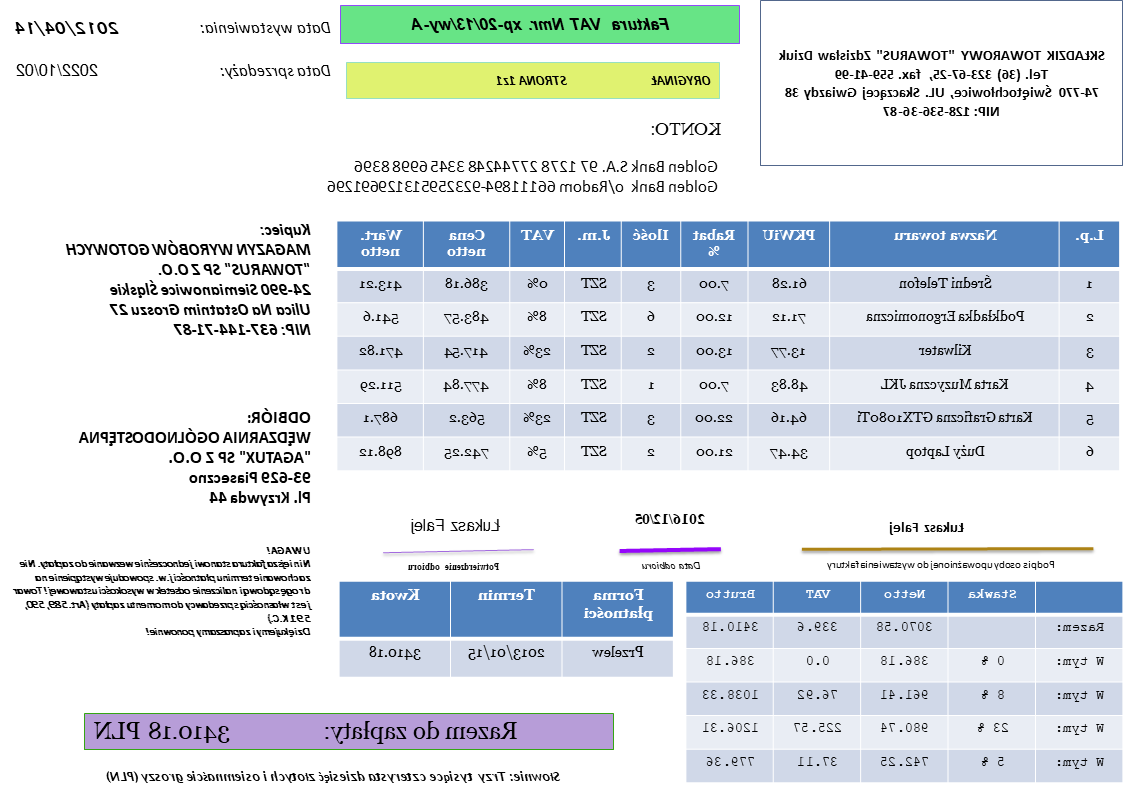Table: (336, 220, 1121, 472), (686, 582, 1122, 782), (337, 579, 675, 678)
TextBox: (63, 220, 313, 337), (11, 544, 313, 638), (775, 46, 1107, 120), (78, 406, 312, 507), (323, 157, 720, 195), (92, 719, 519, 744), (102, 768, 562, 784), (409, 13, 674, 36), (825, 557, 1058, 573), (494, 72, 714, 88), (198, 17, 332, 37), (217, 61, 332, 81), (13, 17, 122, 36), (410, 516, 503, 537), (13, 61, 100, 79), (634, 509, 708, 529), (887, 519, 967, 537), (650, 119, 722, 137), (407, 560, 501, 572), (640, 558, 703, 573)
